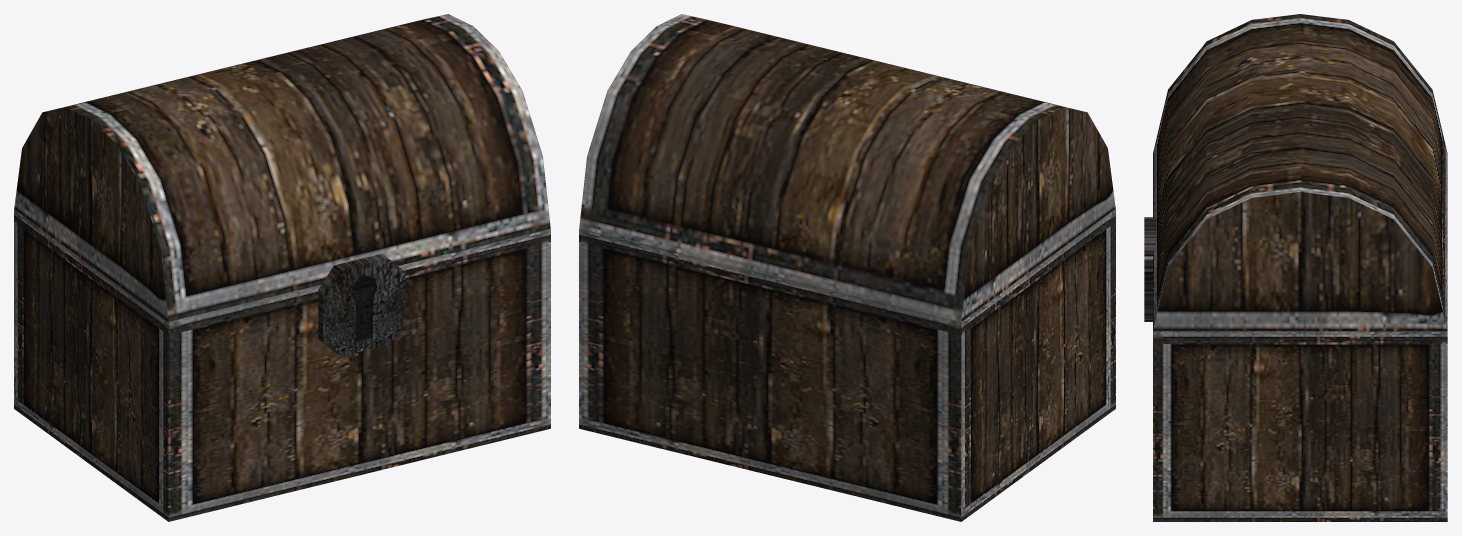
File: Chest.fbx
3 views of the same model, side by side, from view 1: azimuth 30°, elevation 25°; view 2: azimuth 150°, elevation 25°; view 3: azimuth 270°, elevation 25° (orthographic). The views are drawn at different scales.
Parts seen in each view (by area): view 1: Cover, Chest; view 2: Cover, Chest; view 3: Cover, Chest.
Boxes of the visible parts, x1,y1,x2,y2 form: Cover: [14, 14, 550, 356]; Chest: [14, 209, 550, 521]; Cover: [579, 14, 1115, 321]; Chest: [579, 209, 1115, 521]; Cover: [1144, 14, 1447, 331]; Chest: [1153, 331, 1447, 521].
Size of the model in its own units: 0.6667 by 0.5763 by 0.4803.
